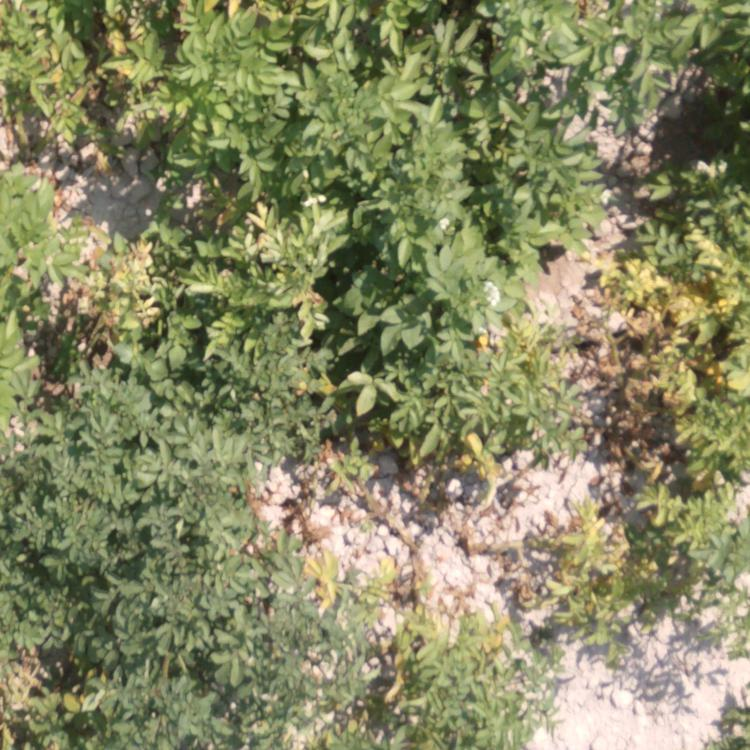healthy: (1, 1, 566, 208), (1, 357, 166, 744), (183, 410, 291, 740), (584, 1, 750, 112), (375, 213, 517, 323)
stressed: (575, 180, 750, 490), (309, 558, 526, 750), (526, 491, 743, 645), (358, 342, 567, 491), (186, 220, 346, 405), (1, 227, 176, 338)
